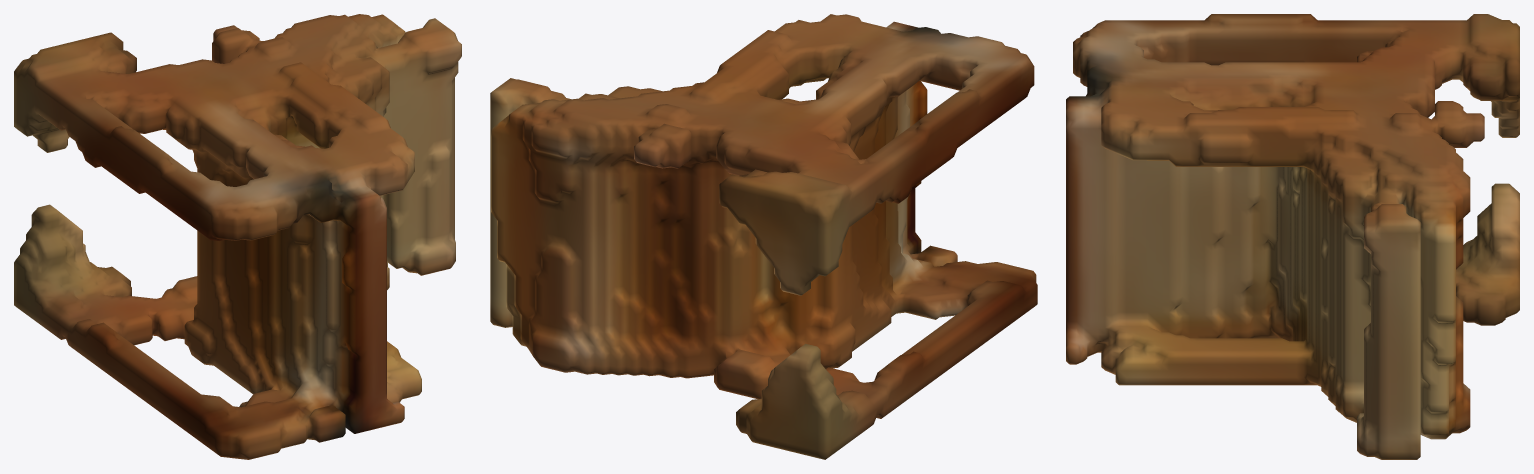
Rendered from a rocking chair, brown frame, earth colored cushio.glb.
3 views of the same model, side by side, from view 1: azimuth 30°, elevation 25°; view 2: azimuth 150°, elevation 25°; view 3: azimuth 270°, elevation 25° (orthographic). The views are drawn at different scales.
Visible parts, largest first — view 1: a rocking chair, brown frame, earth colored cushio; view 2: a rocking chair, brown frame, earth colored cushio; view 3: a rocking chair, brown frame, earth colored cushio.
Boxes of the visible parts, left/top/right/bottom form: a rocking chair, brown frame, earth colored cushio: left=14, top=14, right=461, bottom=459; a rocking chair, brown frame, earth colored cushio: left=490, top=14, right=1037, bottom=459; a rocking chair, brown frame, earth colored cushio: left=1066, top=14, right=1519, bottom=459.
Size of the model in its own units: 64 by 41 by 64.
